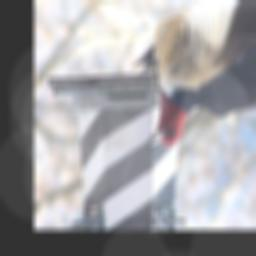Woodpecker: (135, 0, 256, 155)
